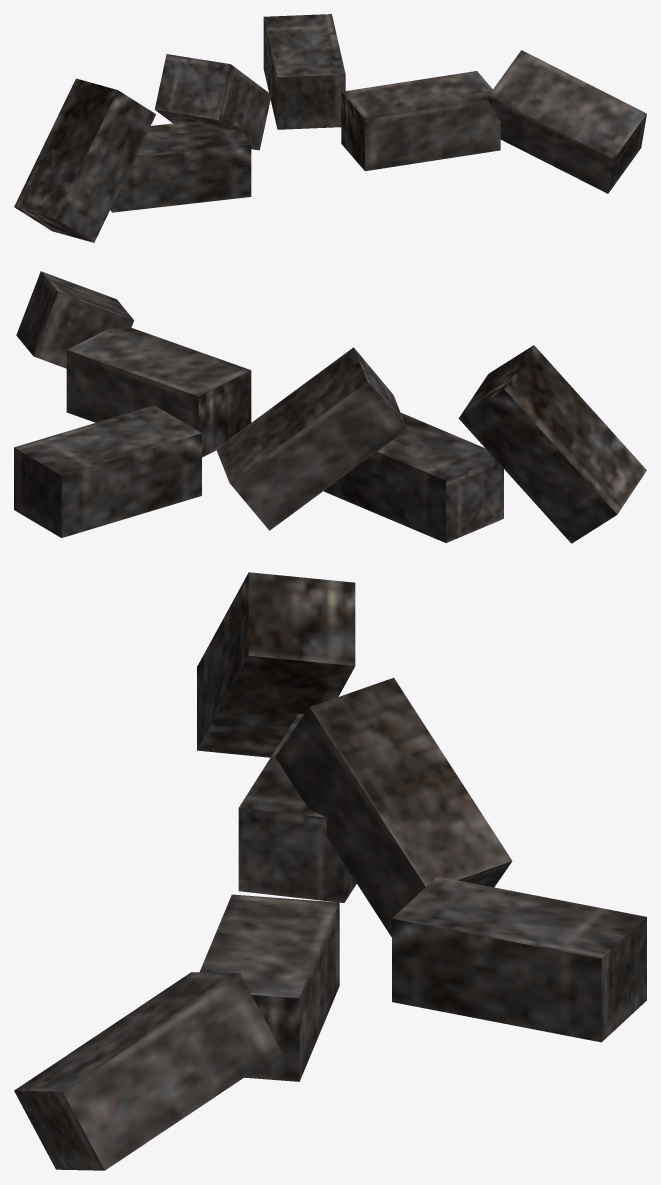
3 renders of one model, top to bottom at view 1: azimuth 30°, elevation 25°; view 2: azimuth 150°, elevation 25°; view 3: azimuth 270°, elevation 25°, orthographic. The views are drawn at different scales.
Parts seen in each view (by area): view 1: SMDImport; view 2: SMDImport; view 3: SMDImport.
Boxes of the visible parts, x1,y1,x2,y2 form: SMDImport: [14, 14, 646, 242]; SMDImport: [14, 271, 646, 543]; SMDImport: [14, 572, 646, 1170].
Bounding box in the file's own units: 133 × 37.08 × 80.98.
